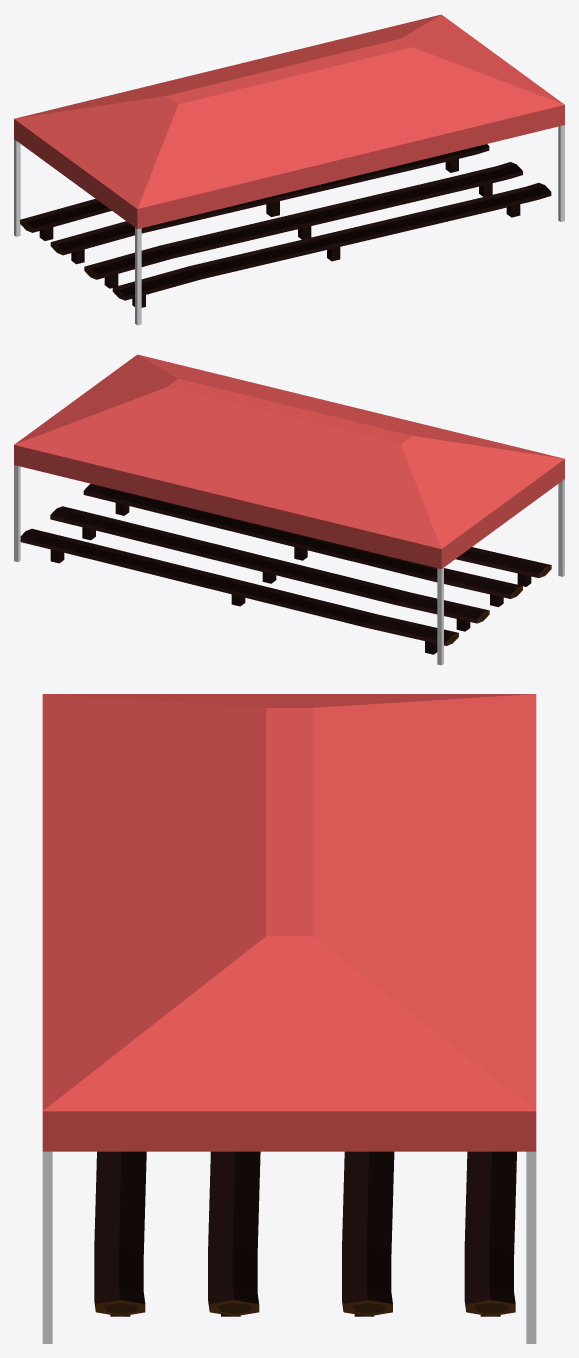
The model's file is tentLong_1.fbx.
3 views of the same model, one above another, from view 1: azimuth 30°, elevation 25°; view 2: azimuth 150°, elevation 25°; view 3: azimuth 270°, elevation 25° (orthographic). The views are drawn at different scales.
Parts seen in each view (by area): view 1: tentLong_1; view 2: tentLong_1; view 3: tentLong_1.
Part boxes in pixels (left/top/right/bottom): tentLong_1: left=14, top=14, right=564, bottom=325; tentLong_1: left=14, top=354, right=564, bottom=665; tentLong_1: left=42, top=694, right=536, bottom=1343.
Size of the model in its own units: 20 by 10 by 7.
